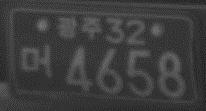2: (127, 19, 147, 46)
3: (105, 17, 125, 43)
4: (64, 47, 93, 92)
5: (127, 49, 155, 97)
6: (96, 48, 124, 95)
8: (157, 50, 186, 98)
광주_O: (56, 15, 102, 41)
머: (21, 44, 52, 77)
